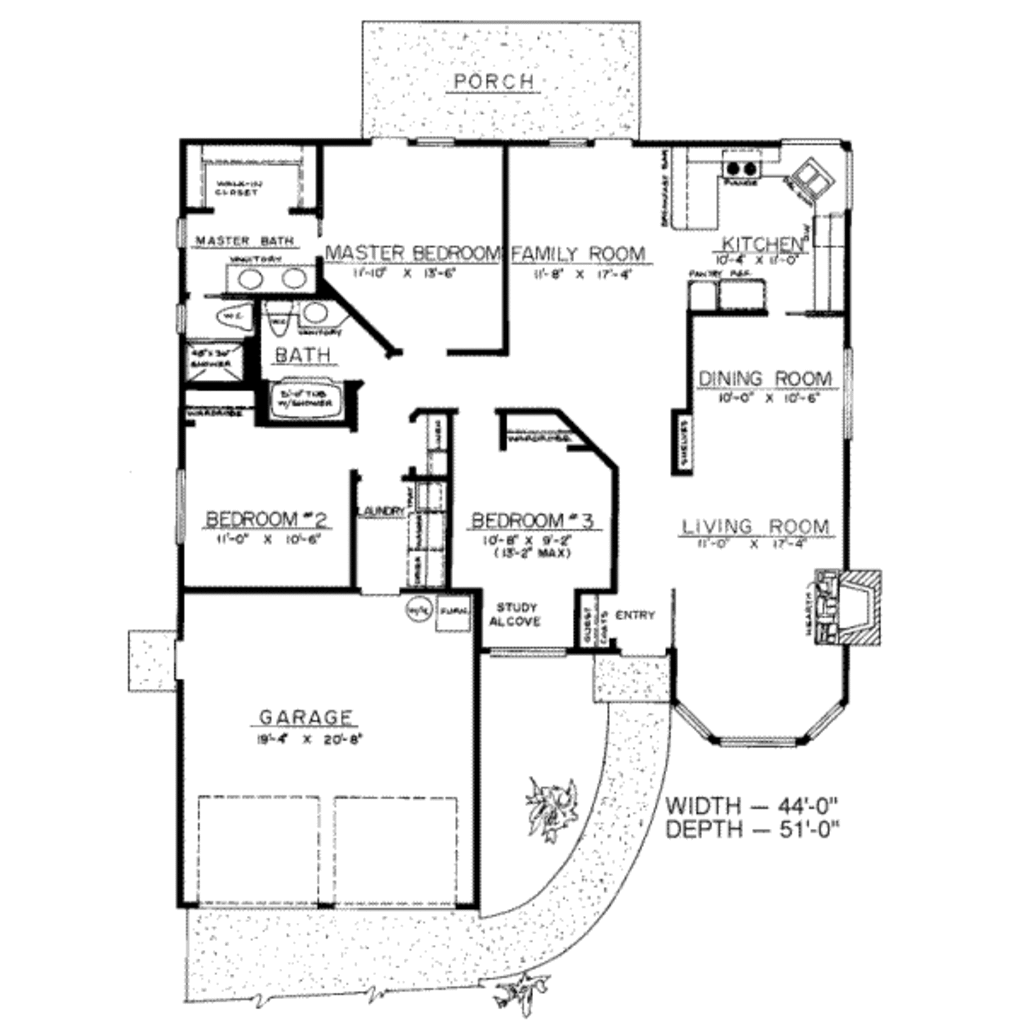large_sink: (248, 286, 296, 343), (213, 296, 258, 337)
small_sink: (226, 259, 316, 294)
tub: (266, 375, 364, 426)
twin_sink: (788, 143, 839, 207)
window: (675, 701, 848, 748), (482, 642, 582, 662), (837, 347, 857, 444), (172, 468, 195, 542), (543, 133, 600, 153), (411, 133, 462, 150)
